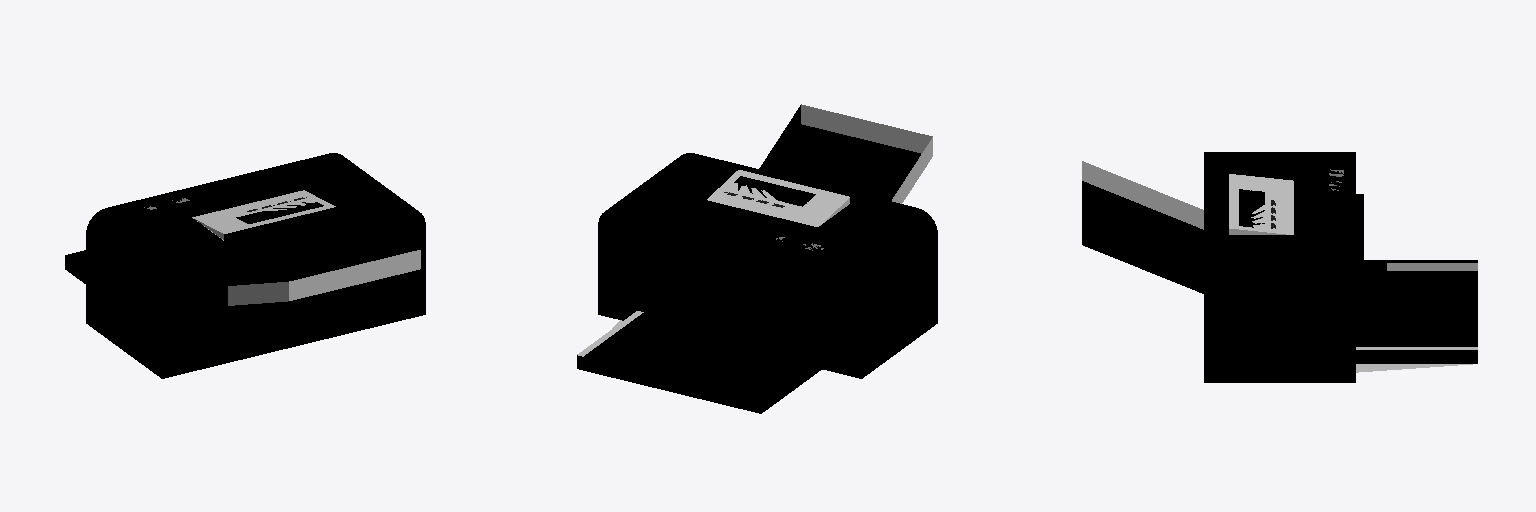
File: impresora.obj
3 views of the same model, side by side, from view 1: azimuth 30°, elevation 25°; view 2: azimuth 150°, elevation 25°; view 3: azimuth 270°, elevation 25° (orthographic).
Parts seen in each view (by area): view 1: impresora:Mesh12Printing_Fax_Scanner1Model; view 2: impresora:Mesh12Printing_Fax_Scanner1Model; view 3: impresora:Mesh12Printing_Fax_Scanner1Model.
Boxes of the visible parts, box(x1,y1,x2,y2) form: impresora:Mesh12Printing_Fax_Scanner1Model: box(65, 153, 425, 378); impresora:Mesh12Printing_Fax_Scanner1Model: box(577, 104, 937, 413); impresora:Mesh12Printing_Fax_Scanner1Model: box(1082, 152, 1477, 382).
Size of the model in its own units: 0.508 by 0.2318 by 0.6604.